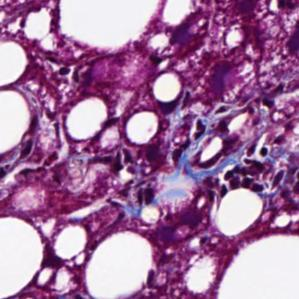inflammation: (214, 157, 289, 193)
